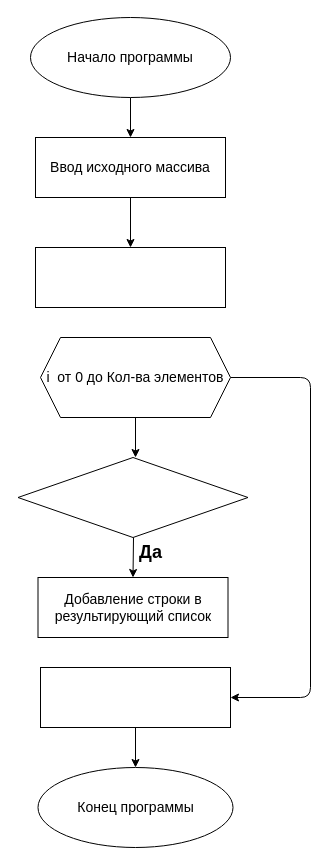
Some shapes in this 336 by 865 pixel diagram are drawn without their labels. The centre of each missing label's shape, as x and y in pixels:
"Вывод результат" goes at (135,697).
"Длина элемента меньше 4" goes at (132,497).
"Иннициализация Результирующего массива" goes at (130,277).
